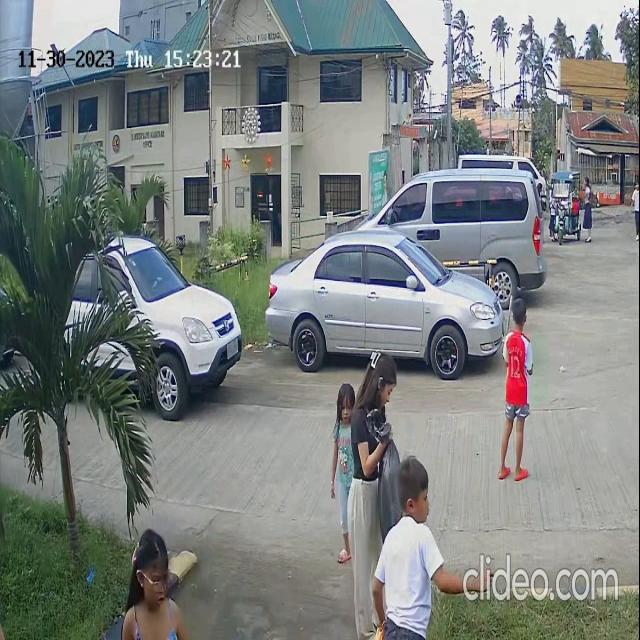person: (392, 449, 433, 570), (133, 533, 176, 640), (359, 334, 395, 432), (502, 298, 531, 399), (331, 384, 356, 458)
